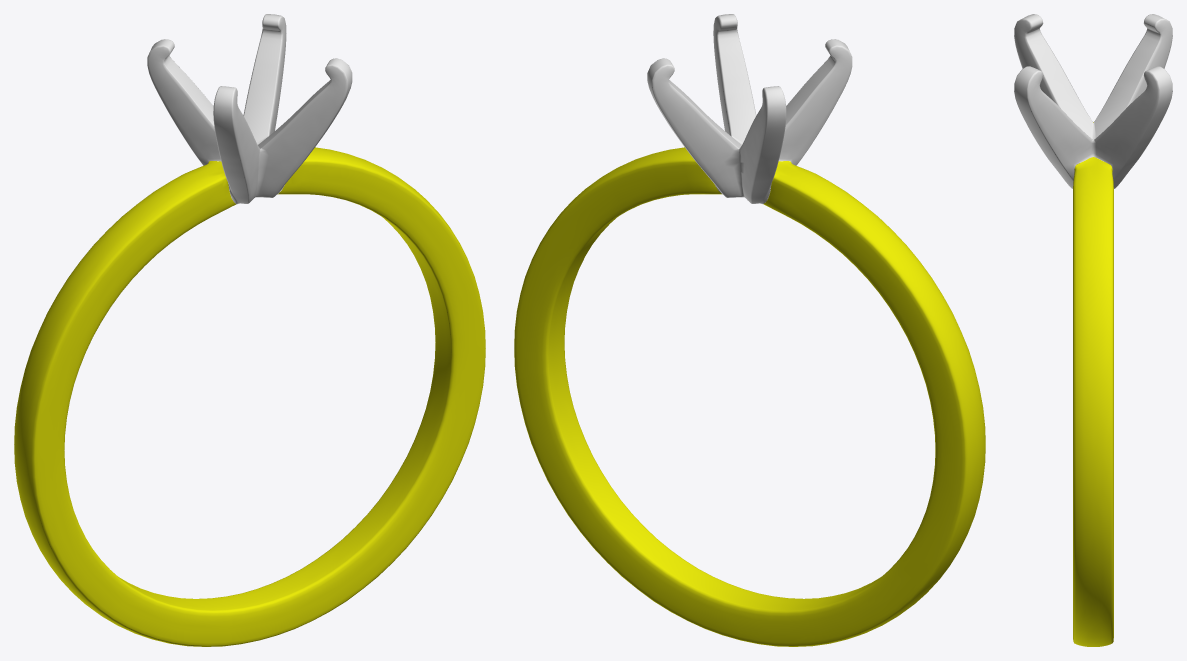
The model's file is Ring_17740_JV_RND_100_draco.glb.
The picture shows the model from 3 angles, left to right: view 1: azimuth 30°, elevation 25°; view 2: azimuth 150°, elevation 25°; view 3: azimuth 270°, elevation 25°; orthographic projection.
Parts seen in each view (by area): view 1: Body; view 2: Body; view 3: Body.
Boxes of the visible parts, x1=… form: Body: x1=14, y1=14, x2=485, y2=646; Body: x1=514, y1=14, x2=985, y2=646; Body: x1=1014, y1=14, x2=1172, y2=646.
Bounding box in the file's own units: 0.0193 × 0.0235 × 0.00583.
